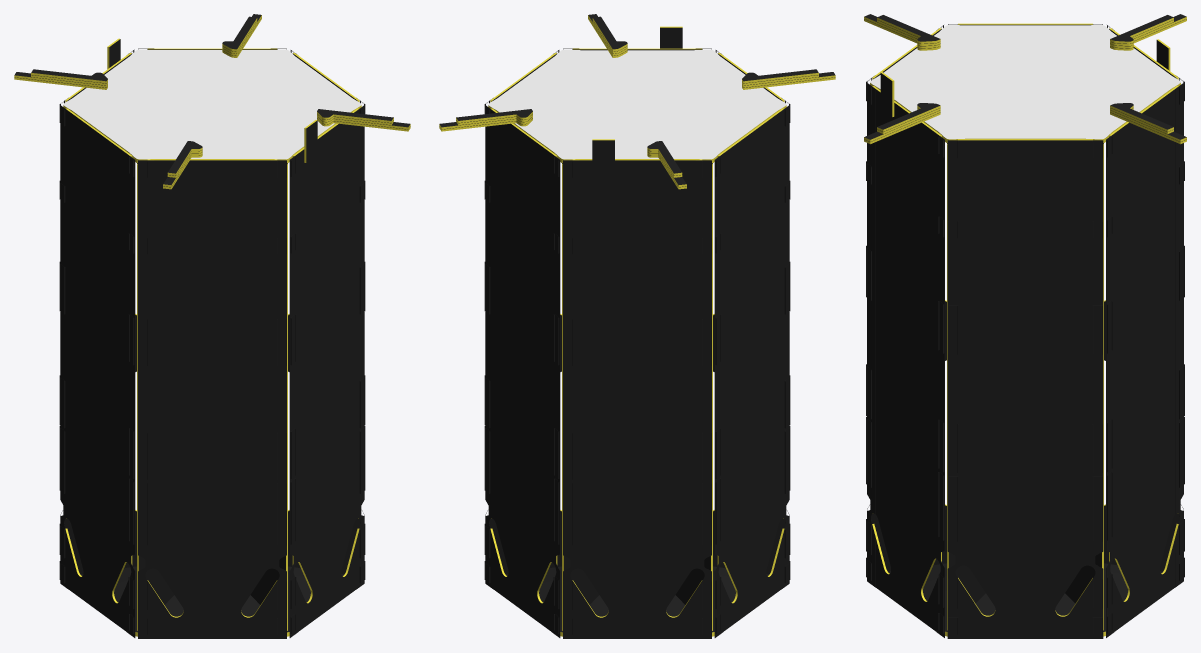
Rendered from NovaTest.glb.
3 renders of one model, left to right at view 1: azimuth 30°, elevation 25°; view 2: azimuth 150°, elevation 25°; view 3: azimuth 270°, elevation 25°, orthographic. The views are drawn at different scales.
Parts seen in each view (by area): view 1: Nova-Shell; view 2: Nova-Shell; view 3: Nova-Shell.
Part boxes in pixels (box(x1,y1,x2,y2)): Nova-Shell: box(14, 14, 410, 638); Nova-Shell: box(439, 14, 835, 638); Nova-Shell: box(864, 14, 1186, 638).
Bounding box in the file's own units: 1.51 × 2.91 × 1.63.
